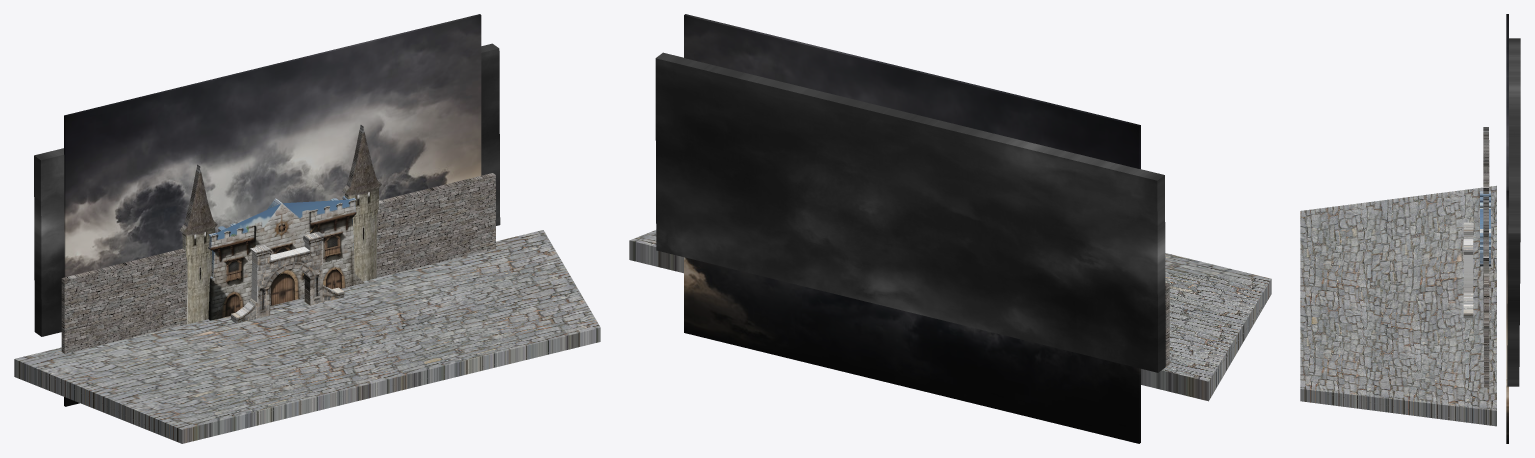
File: castle-map.fbx
3 renders of one model, left to right at view 1: azimuth 30°, elevation 25°; view 2: azimuth 150°, elevation 25°; view 3: azimuth 270°, elevation 25°, orthographic. The views are drawn at different scales.
Visible parts, largest first — view 1: cloud, floor, front, Plane.001, Plane, cloudy, turret (×2), entrance; view 2: cloudy, cloud, floor; view 3: floor, cloudy, cloud, entrance, turret (×2), Plane, front.
Boxes of the visible parts, x1,y1,x2,y2 form: cloud: (64, 14, 481, 406); floor: (14, 230, 600, 443); front: (208, 196, 363, 320); Plane.001: (61, 248, 187, 353); Plane: (377, 173, 495, 277); cloudy: (34, 43, 500, 336); turret (×2): (179, 125, 381, 324); entrance: (231, 231, 344, 323); cloudy: (655, 52, 1165, 372); cloud: (684, 14, 1140, 443); floor: (629, 230, 1271, 401); floor: (1300, 185, 1496, 426); cloudy: (1507, 38, 1520, 386); cloud: (1506, 14, 1508, 443); entrance: (1463, 222, 1473, 318); turret (×2): (1483, 127, 1488, 336); Plane: (1484, 270, 1489, 387); front: (1480, 191, 1490, 266).
Bounding box in the file's own units: 2091 × 1096 × 864.
Materials: 7 (7 with a texture image).
